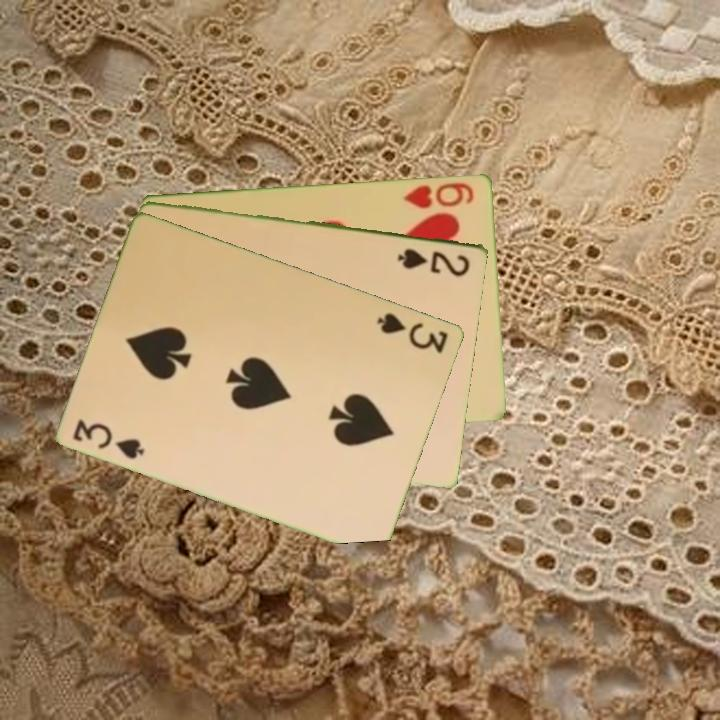2s: (395, 244, 473, 279)
3s: (374, 308, 452, 356), (70, 415, 148, 462)
6h: (401, 178, 477, 211)
